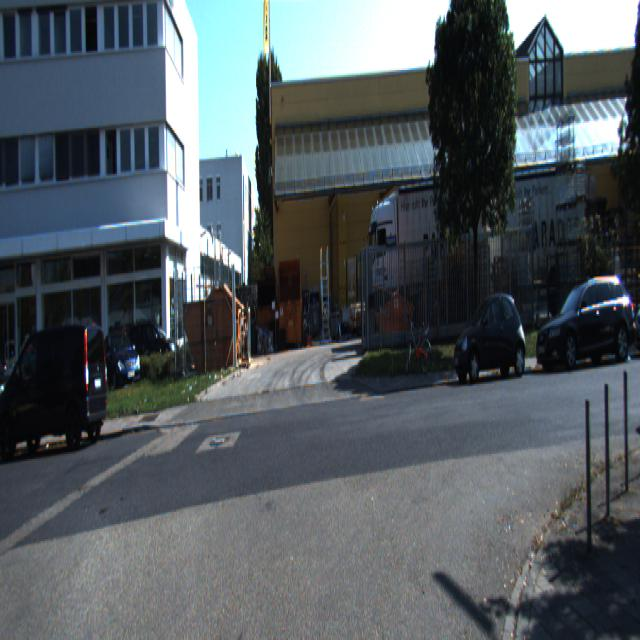Car: (367, 173, 488, 339), (0, 319, 109, 454), (532, 267, 638, 370), (452, 289, 528, 377), (100, 329, 141, 400)
